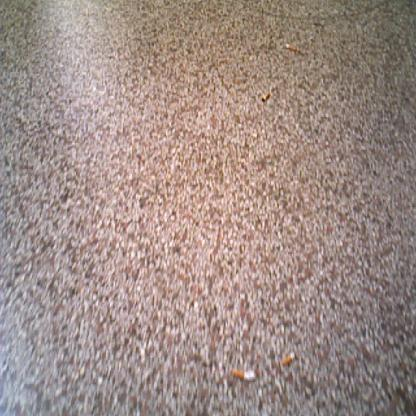dirty: (231, 368, 255, 382), (278, 350, 295, 368), (260, 90, 271, 102), (285, 42, 297, 52)
